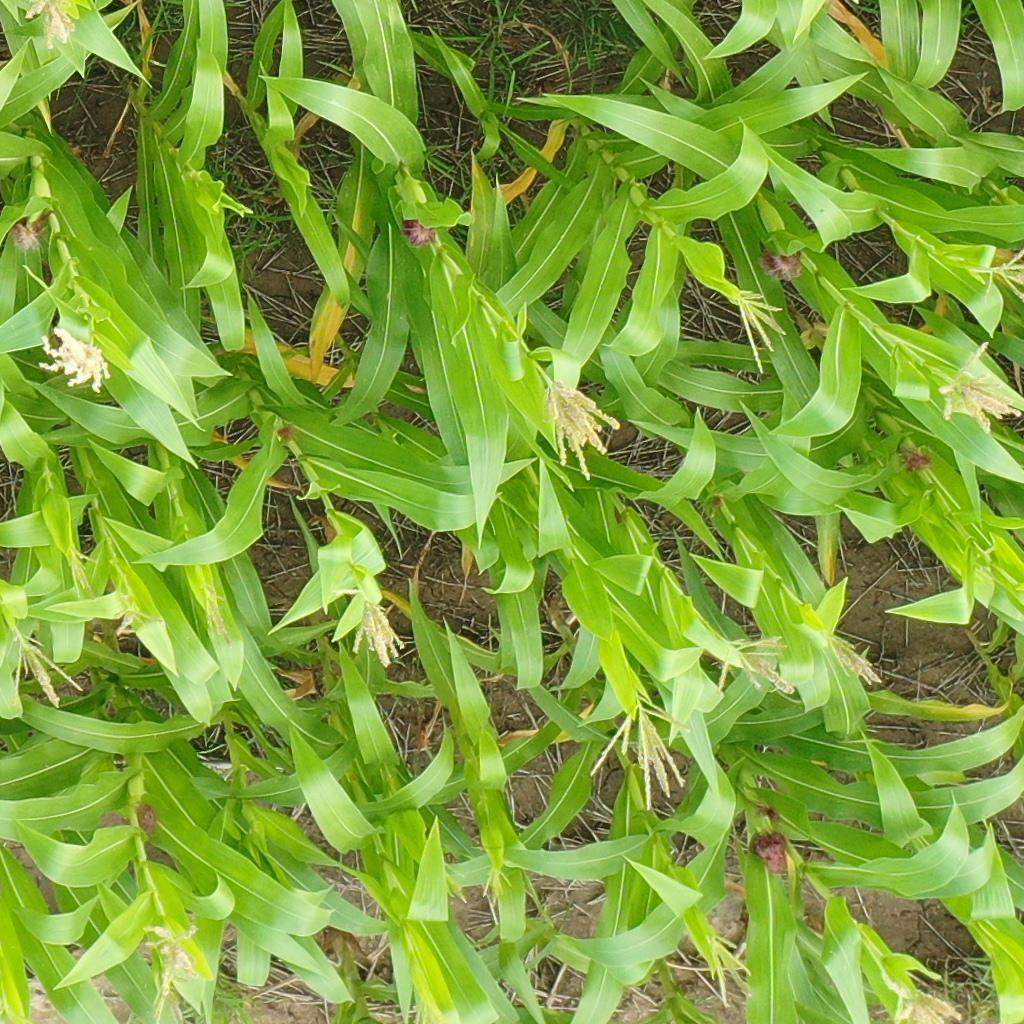Tassel: (591, 698, 688, 816), (540, 378, 621, 485), (940, 340, 1023, 434), (1, 621, 86, 710), (332, 575, 409, 670), (136, 919, 201, 1024), (714, 630, 798, 698), (37, 324, 113, 394), (731, 290, 789, 378), (876, 966, 962, 1024), (820, 627, 887, 685), (703, 933, 755, 1007), (966, 245, 1024, 303), (20, 1, 80, 52), (201, 584, 239, 653), (112, 588, 164, 638), (63, 545, 93, 595), (441, 862, 472, 904), (480, 863, 513, 898), (410, 992, 440, 1024)
